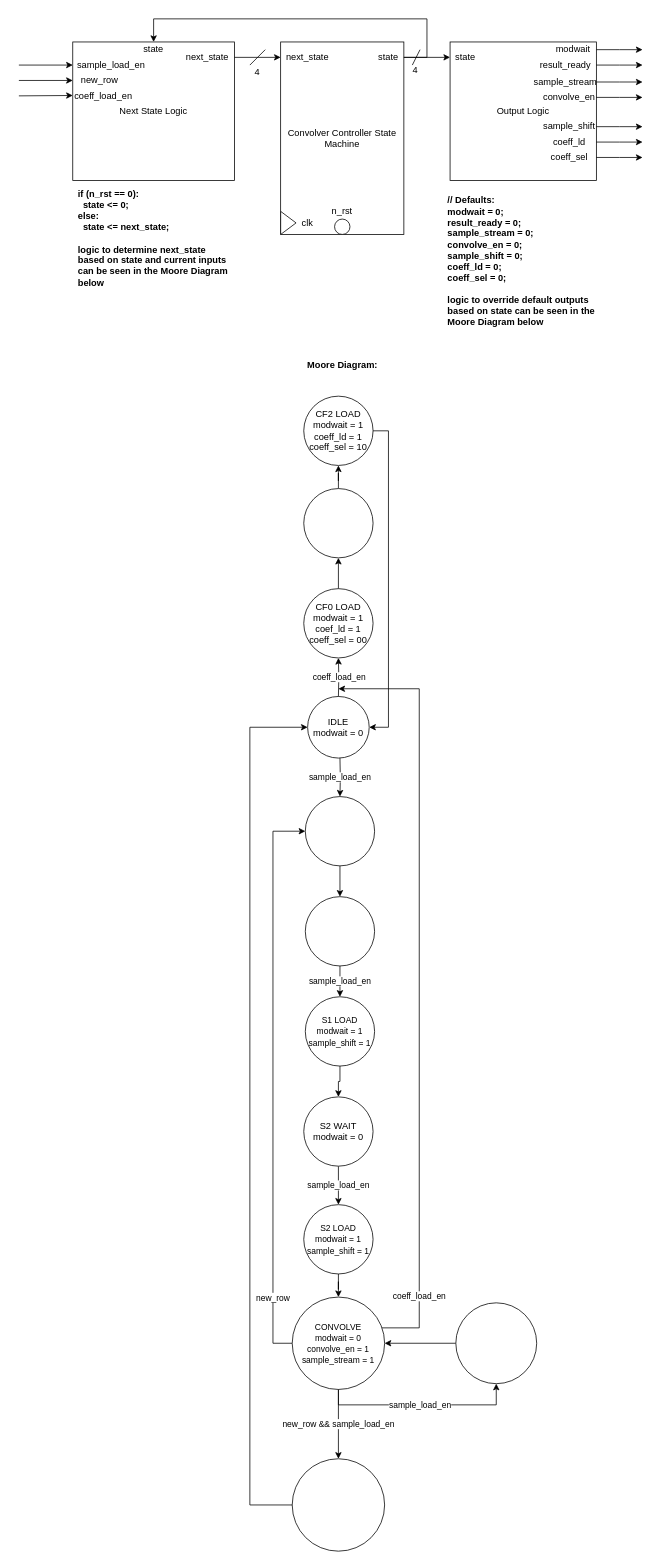
Image size: 662x1565. Some labels were removed from this diagram. Here are the shapes that lost their labels. From the top down, the centre of each, then its label:
At point (338, 523): "CF1 LOAD modwait = 1 coeff_ld = 1 coeff_sel = 01".
At point (340, 831): "S0 LOAD modwait = 1 sample_shift = 1".
At point (340, 931): "S1 WAIT modwait = 0".
At point (496, 1343): "SAMPLE STREAM modwait = 1 sample_shift = 1".
At point (338, 1504): "RESULT READY result_ready = 1".
